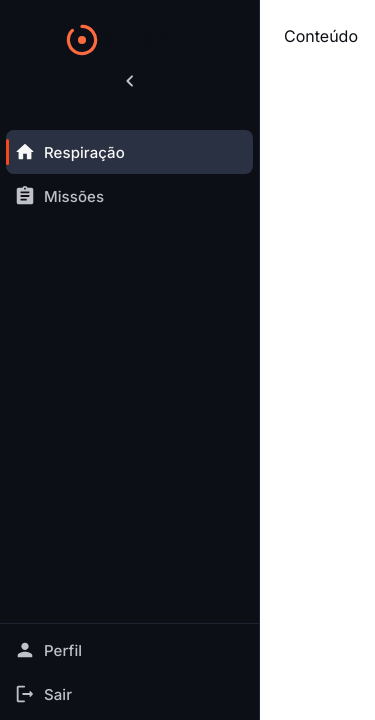
Test: KokyuAppShell › toggles collapse and persists the preference to localStorage
Click the button named "Recolher menu" at (130, 81), box [112, 64, 146, 98]
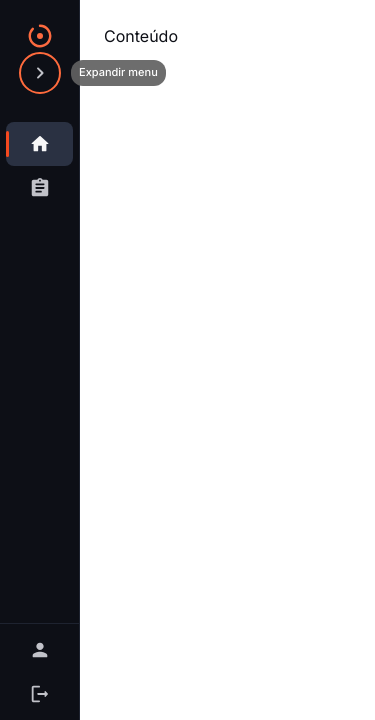
Result: the button named "Expandir menu" is shown at [22, 56, 56, 90]
